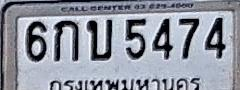4: (205, 16, 226, 58), (153, 18, 172, 59)
5: (125, 18, 146, 59)
6: (26, 20, 46, 62)
7: (178, 18, 199, 58)
A01: (54, 19, 79, 61)
A26: (87, 18, 112, 61)
